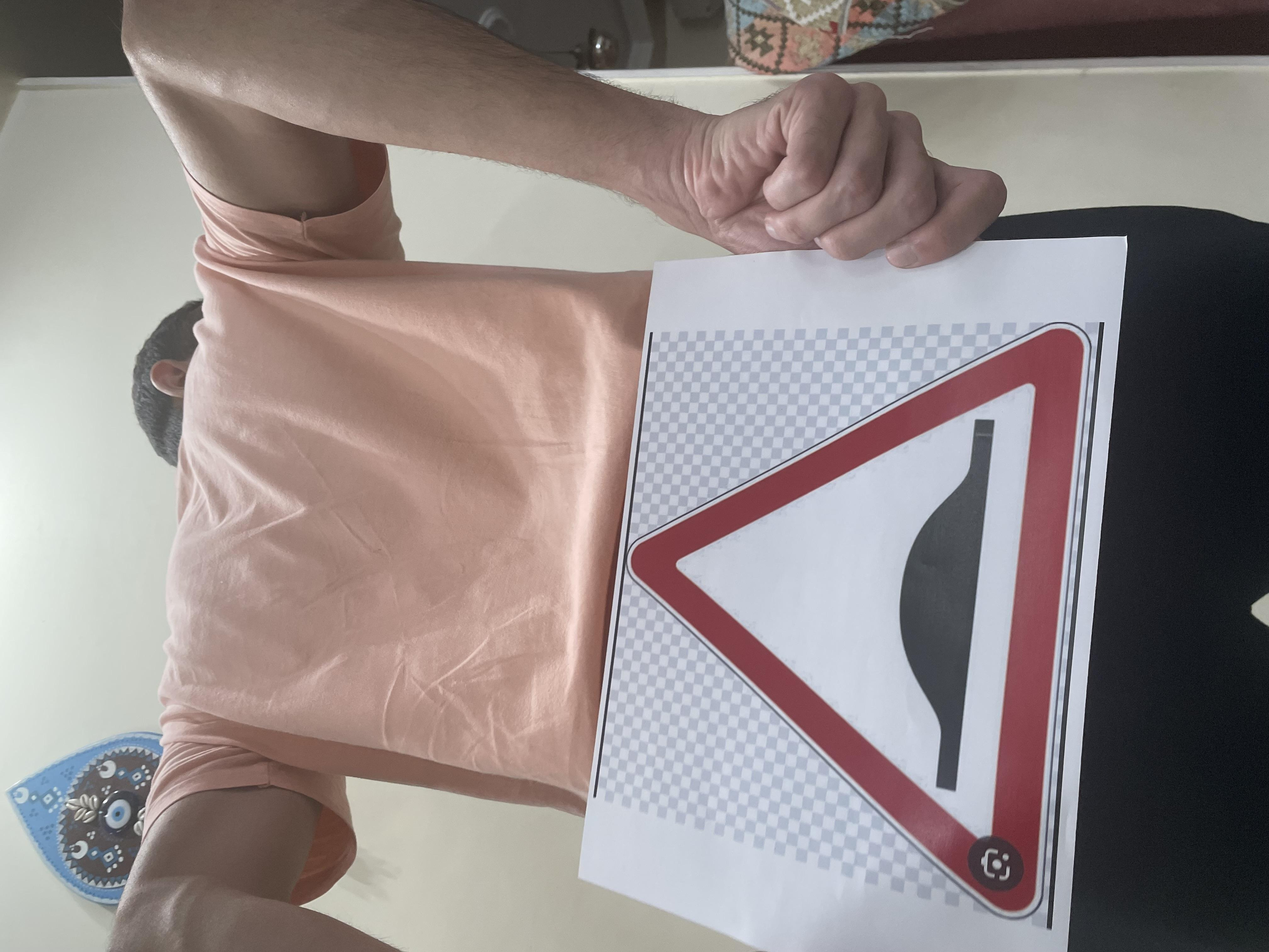Hump: (46, 477, 853, 798)
